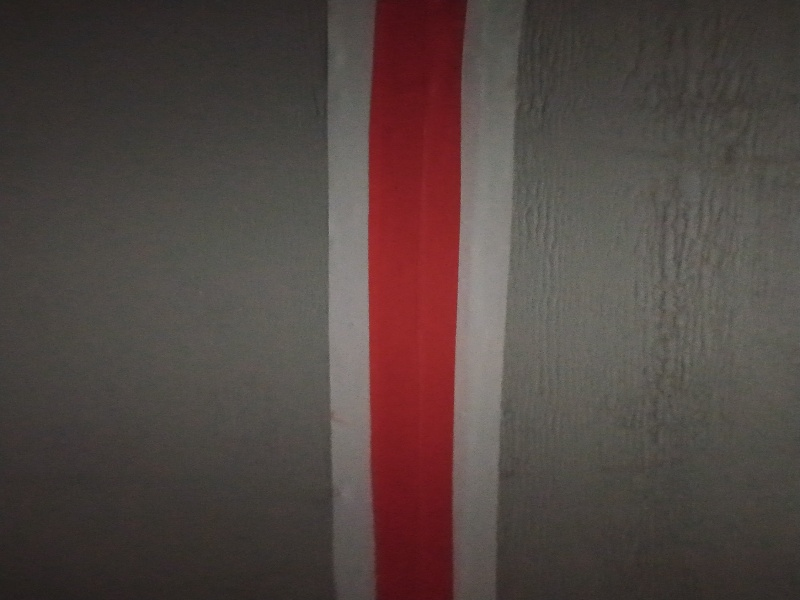faixa: (328, 6, 499, 600)
